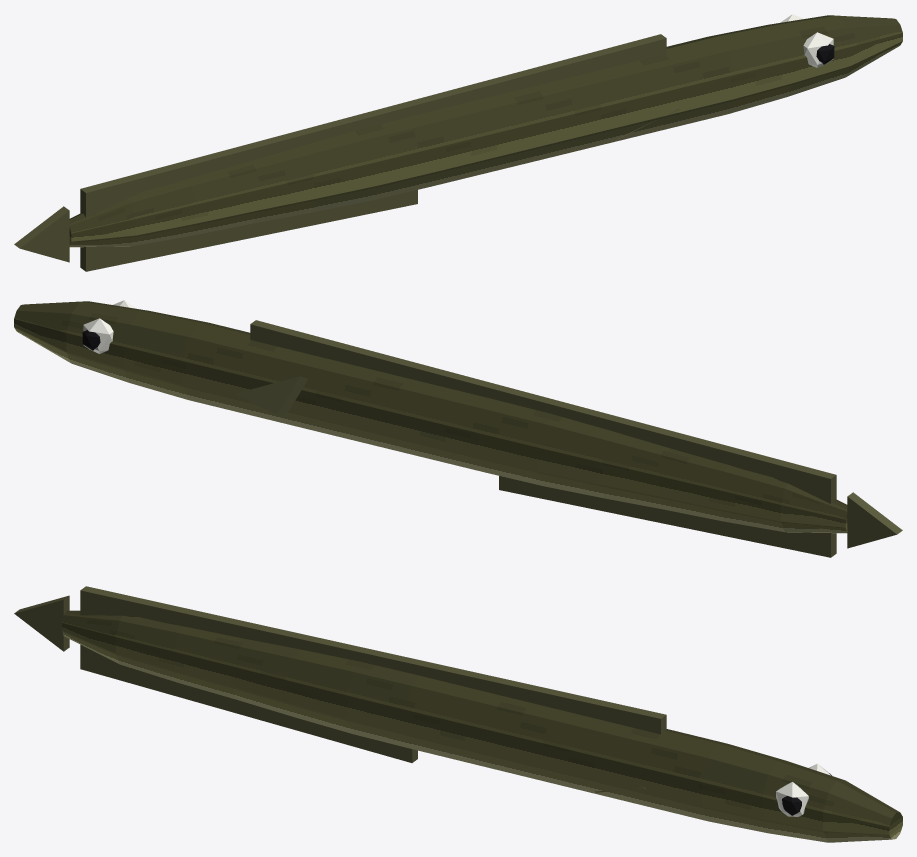
The model's file is shortfin_eel.glb.
The picture shows the model from 3 angles, top to bottom: view 1: azimuth 30°, elevation 25°; view 2: azimuth 150°, elevation 25°; view 3: azimuth 330°, elevation 25°; orthographic projection.
Visible parts, largest first — view 1: fish_shortfin_eel; view 2: fish_shortfin_eel; view 3: fish_shortfin_eel.
Boxes of the visible parts, bbox=[...] form: fish_shortfin_eel: bbox=[14, 14, 902, 271]; fish_shortfin_eel: bbox=[14, 300, 902, 557]; fish_shortfin_eel: bbox=[14, 586, 902, 842].
Size of the model in its own units: 1.06 by 0.121 by 0.1047.
4 materials, 1 textured.
